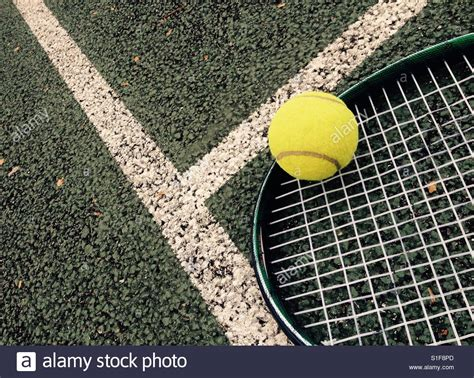tennis_ball: (268, 91, 358, 181)
